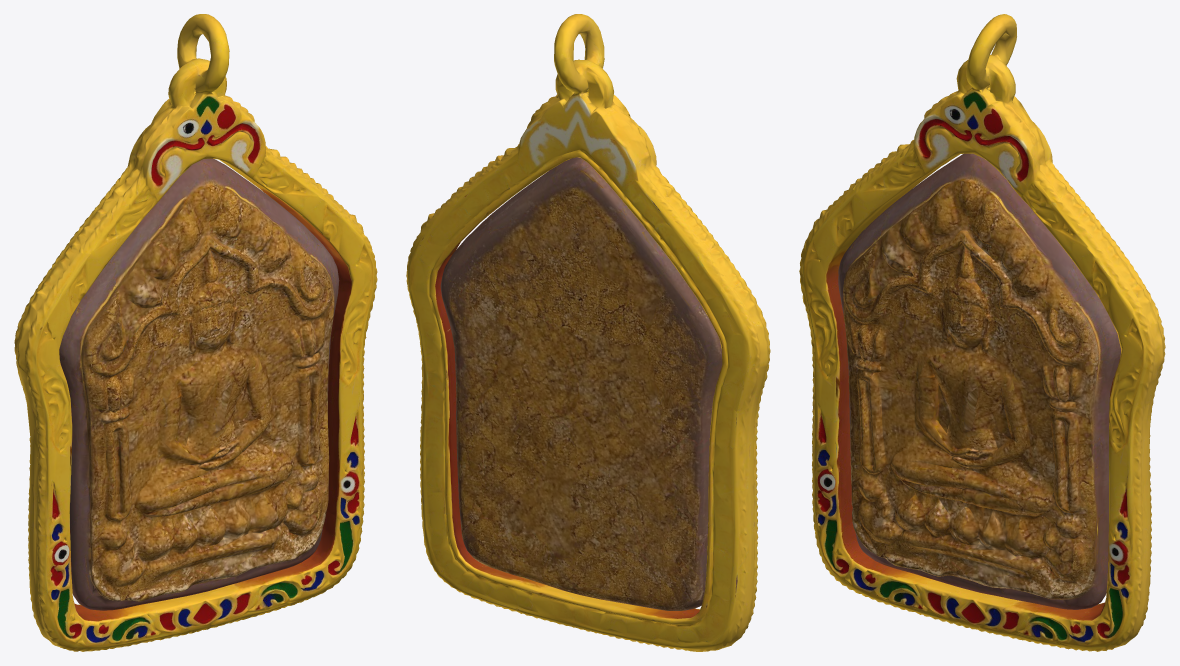
Rendered from timkplod.glb.
3 views of the same model, side by side, from view 1: azimuth 30°, elevation 25°; view 2: azimuth 150°, elevation 25°; view 3: azimuth 330°, elevation 25° (orthographic).
Size of the model in its own units: 0.6172 by 0.9994 by 0.127.
Materials: 1 (1 with a texture image).
